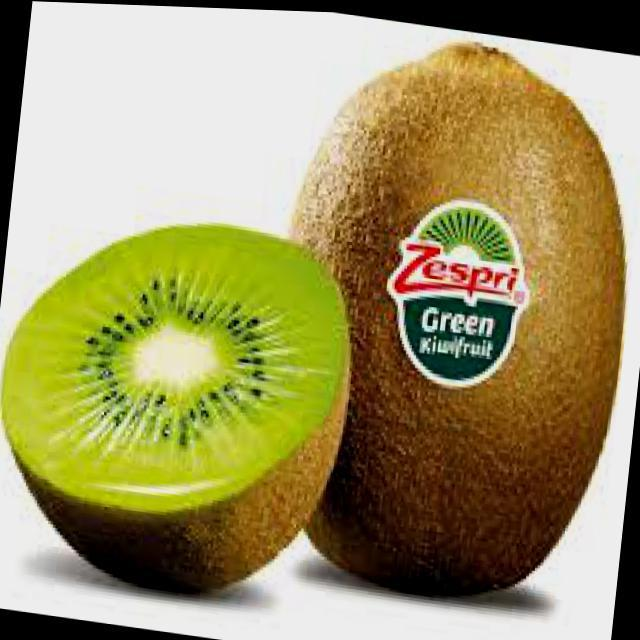kiwi: (252, 16, 640, 626)
